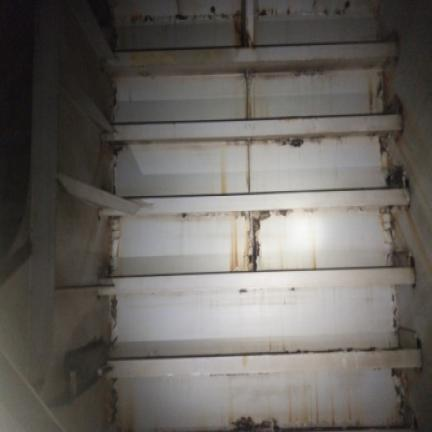besi_tidak_karat: (103, 0, 431, 432)
